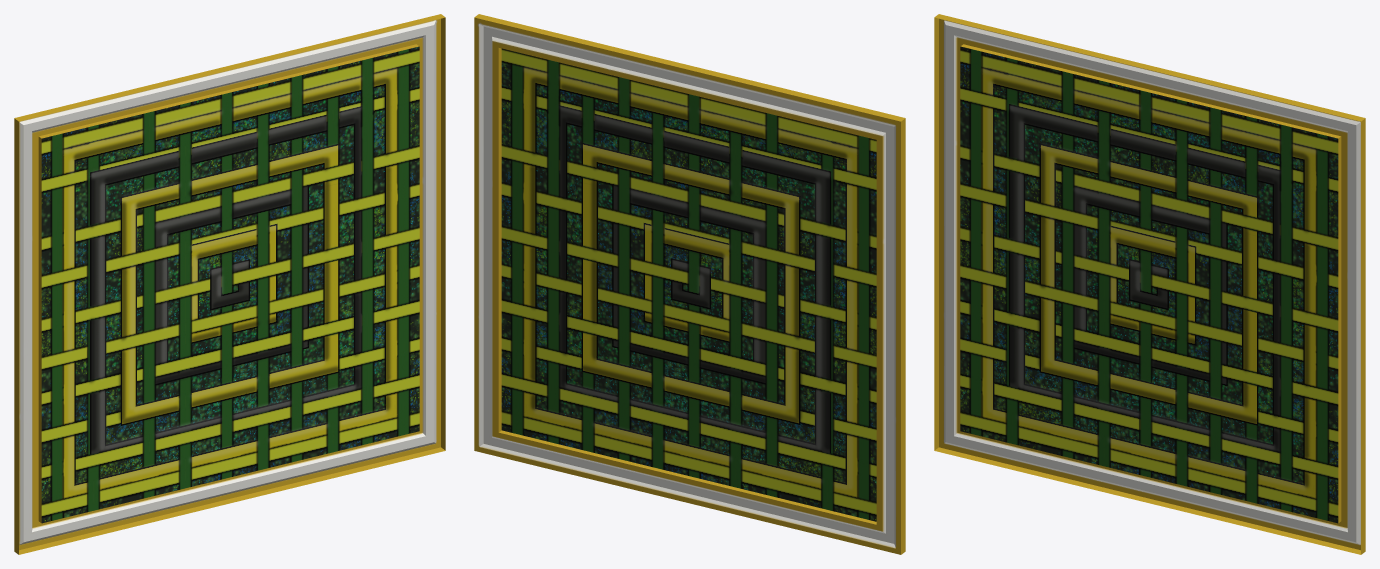
The model's file is Painting_Square.fbx.
3 views of the same model, side by side, from view 1: azimuth 30°, elevation 25°; view 2: azimuth 150°, elevation 25°; view 3: azimuth 330°, elevation 25° (orthographic).
Visible parts, largest first — view 1: Painting_Square_MasterBedroom; view 2: Painting_Square_MasterBedroom; view 3: Painting_Square_MasterBedroom.
Boxes of the visible parts, x1,y1,x2,y2 form: Painting_Square_MasterBedroom: [14, 14, 445, 554]; Painting_Square_MasterBedroom: [474, 14, 905, 554]; Painting_Square_MasterBedroom: [934, 14, 1365, 554].
Size of the model in its own units: 51.54 by 50 by 1.
